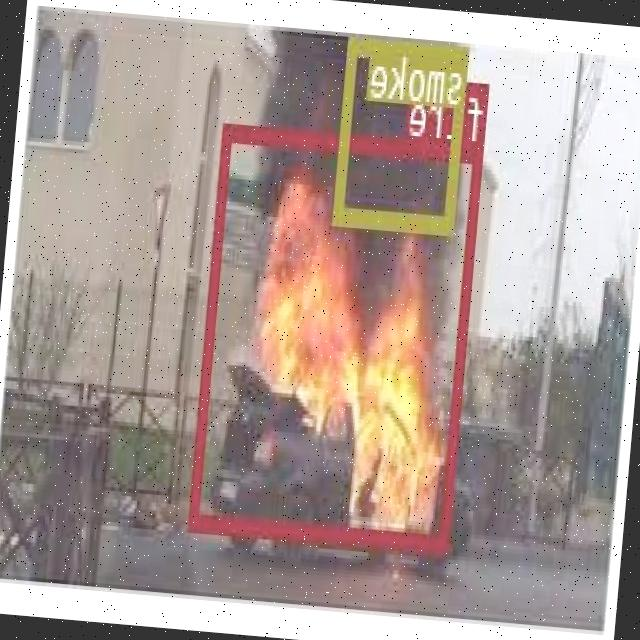fire: (190, 121, 485, 550)
smoke: (334, 32, 470, 232)
